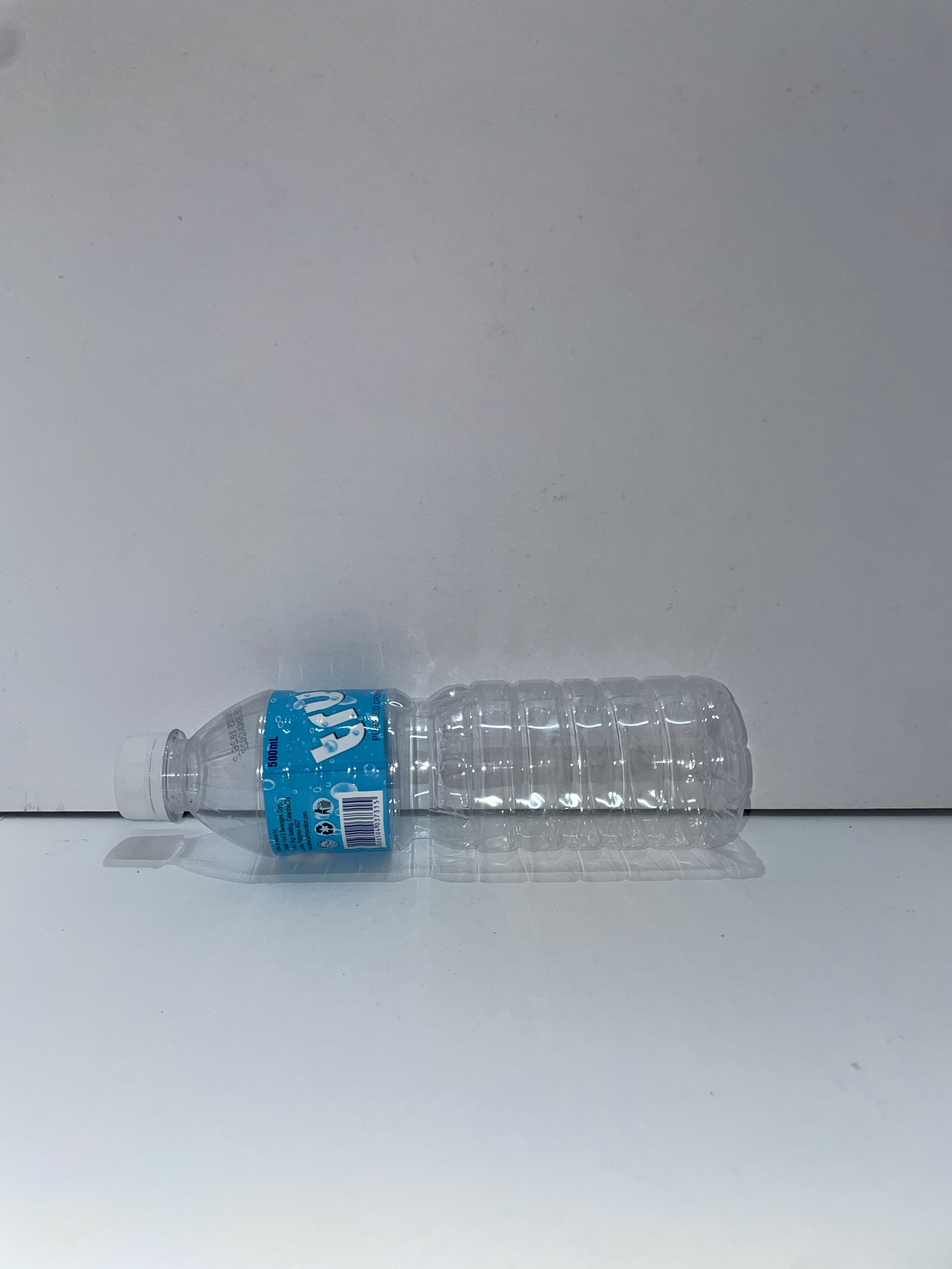True 500ml: (115, 676, 752, 857)
